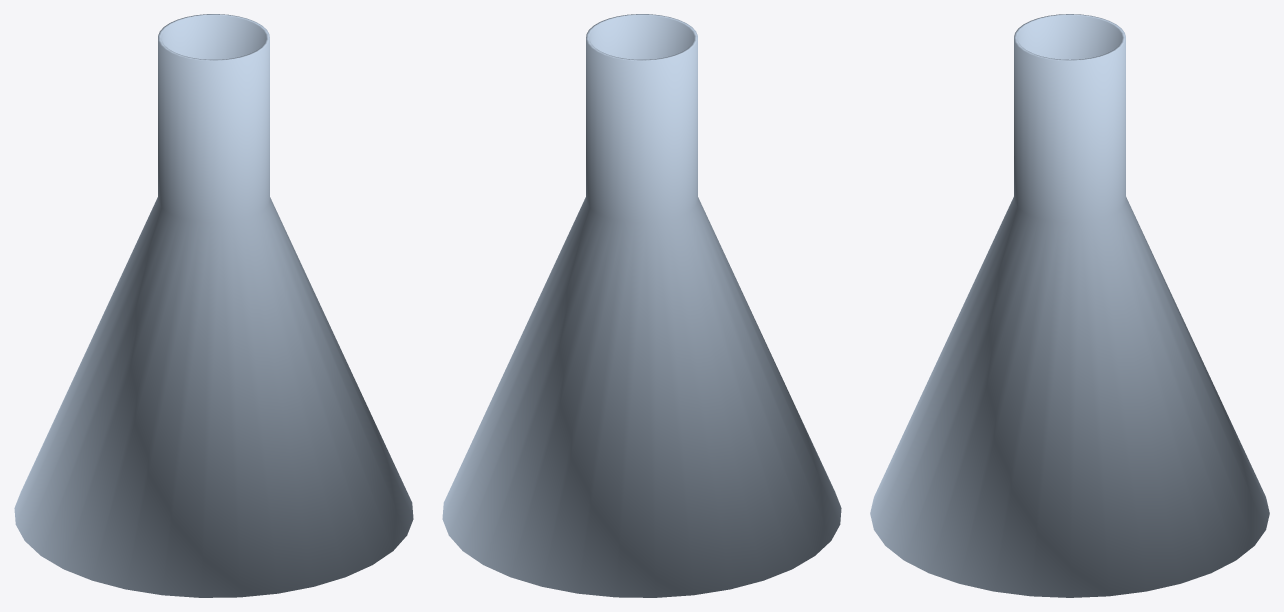
The model's file is Flask.fbx.
3 views of the same model, side by side, from view 1: azimuth 30°, elevation 25°; view 2: azimuth 150°, elevation 25°; view 3: azimuth 270°, elevation 25° (orthographic).
Visible parts, largest first — view 1: 플라스크; view 2: 플라스크; view 3: 플라스크.
Boxes of the visible parts, box(x1,y1,x2,y2) form: 플라스크: box(14, 14, 413, 597); 플라스크: box(442, 14, 841, 597); 플라스크: box(870, 14, 1269, 597).
Size of the model in its own units: 26.23 by 34.45 by 26.23.
